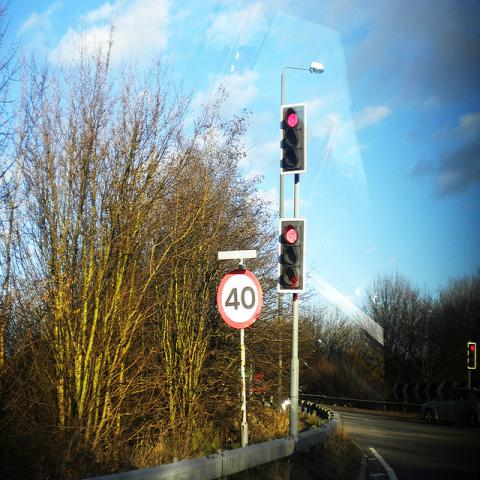car: (424, 390, 479, 430), (245, 361, 272, 406)
